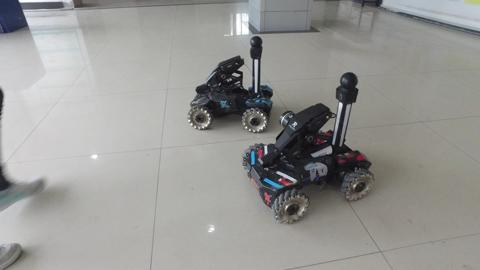chariot: (233, 66, 379, 236), (184, 33, 283, 140)
